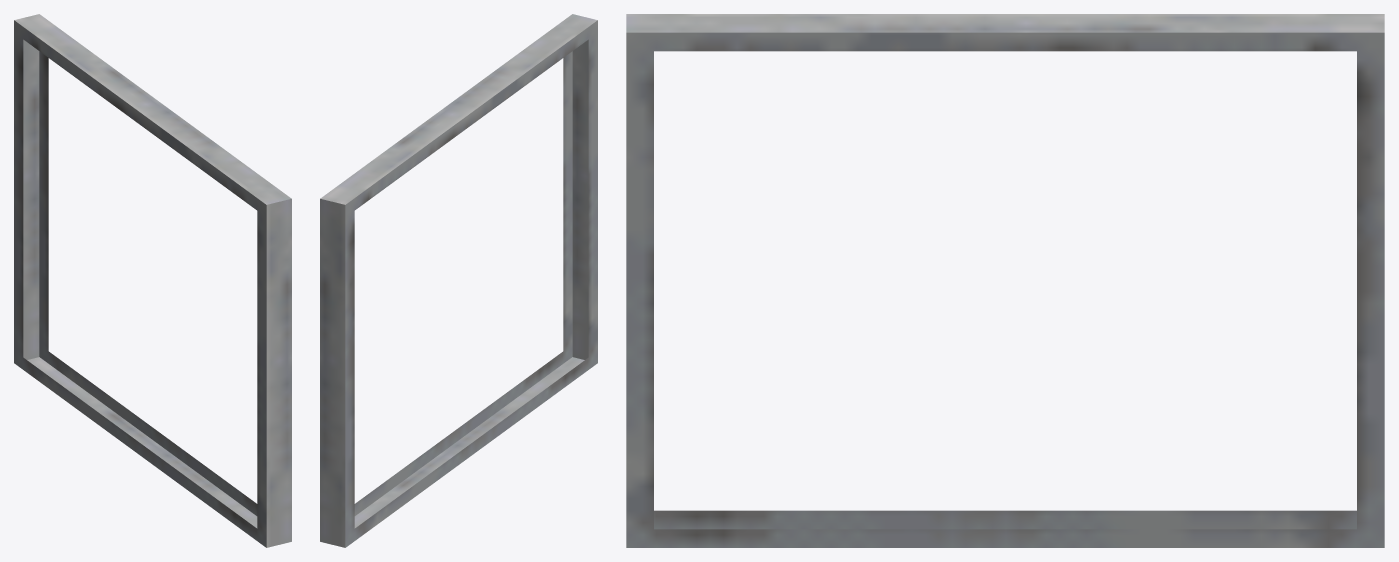
Rendered from duct_frame.fbx.
3 views of the same model, side by side, from view 1: azimuth 30°, elevation 25°; view 2: azimuth 150°, elevation 25°; view 3: azimuth 270°, elevation 25° (orthographic). The views are drawn at different scales.
Parts seen in each view (by area): view 1: duct_turn; view 2: duct_turn; view 3: duct_turn.
Boxes of the visible parts, left/top/right/bottom form: duct_turn: left=14, top=14, right=291, bottom=547; duct_turn: left=320, top=14, right=597, bottom=547; duct_turn: left=626, top=14, right=1384, bottom=547.
Size of the model in its own units: 10 by 129 by 173.
